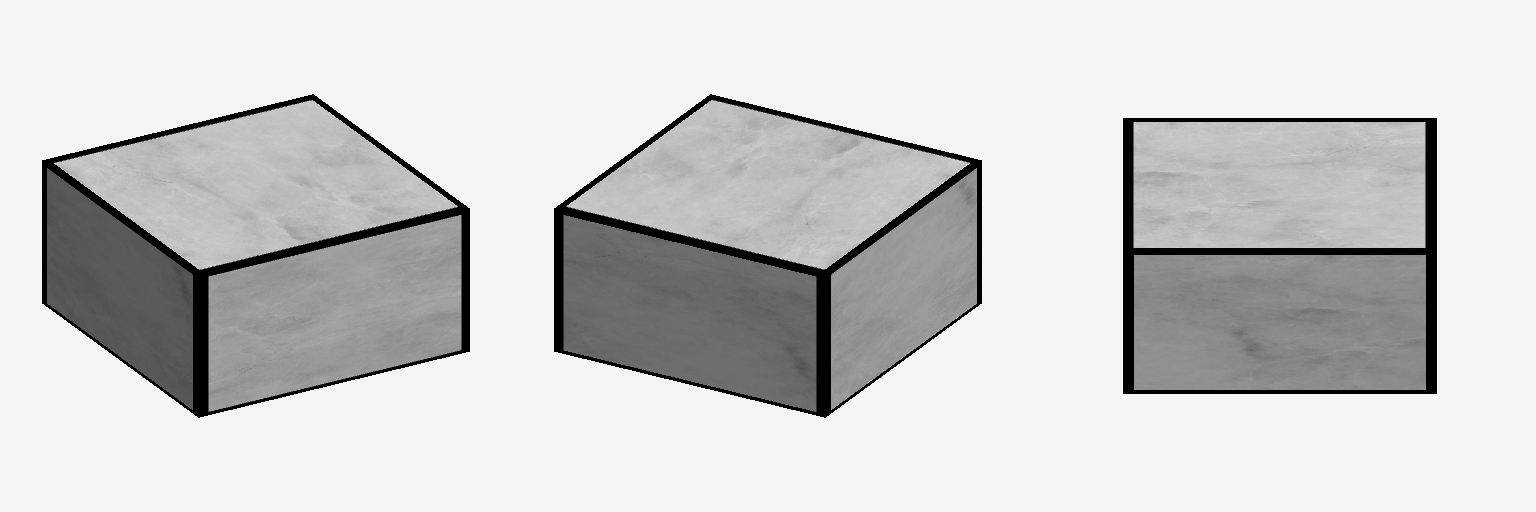
The picture shows the model from 3 angles: view 1: azimuth 30°, elevation 25°; view 2: azimuth 150°, elevation 25°; view 3: azimuth 270°, elevation 25°; orthographic projection.
Parts seen in each view (by area): view 1: Cube_Cube.002; view 2: Cube_Cube.002; view 3: Cube_Cube.002.
Part boxes in pixels (x1,y1,x2,y2): Cube_Cube.002: (42,94,469,417); Cube_Cube.002: (554,94,981,417); Cube_Cube.002: (1123,118,1436,393).
Bounding box in the file's own units: 0.5 × 0.25 × 0.5.
1 materials, 1 textured.